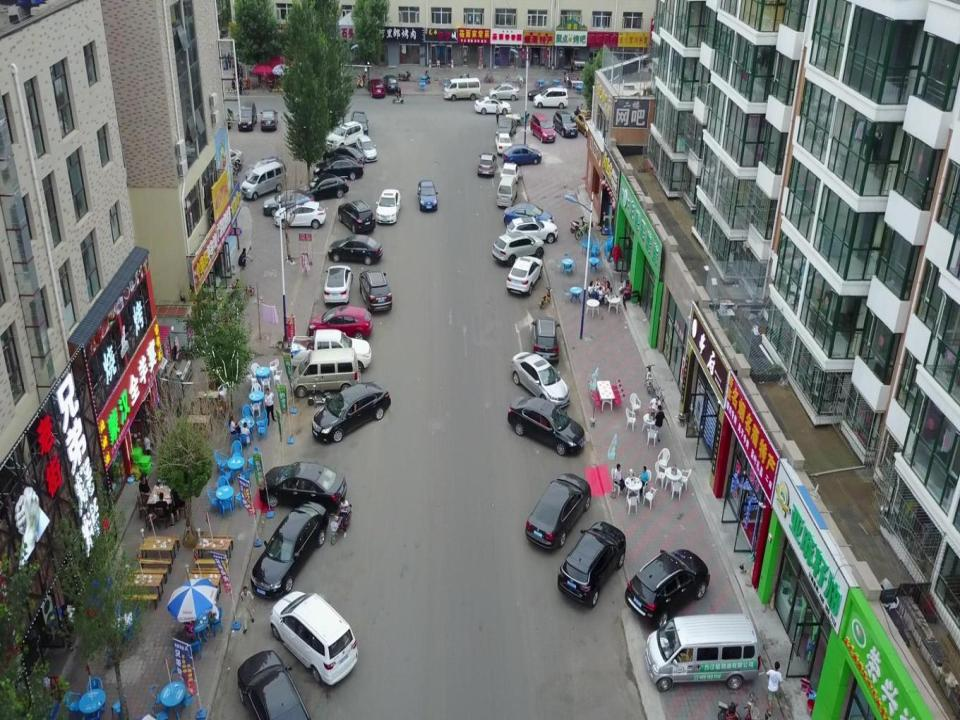car: (269, 591, 357, 683), (252, 500, 328, 596), (624, 548, 710, 628), (557, 522, 626, 604), (237, 649, 314, 720), (527, 472, 590, 548), (311, 382, 391, 441), (509, 396, 584, 456), (260, 462, 347, 507), (513, 352, 569, 409), (310, 306, 373, 339), (494, 231, 544, 262), (328, 234, 382, 262), (508, 214, 558, 243), (274, 200, 325, 228), (507, 254, 543, 293), (296, 172, 348, 199), (531, 316, 560, 364), (359, 270, 392, 311), (263, 189, 314, 214), (313, 154, 363, 179), (338, 200, 376, 232), (502, 204, 557, 226), (201, 143, 244, 169), (244, 155, 286, 180), (327, 121, 363, 150), (323, 144, 366, 168), (326, 265, 352, 303), (376, 188, 400, 223), (530, 112, 556, 143), (553, 110, 579, 138), (474, 95, 510, 115), (504, 146, 541, 165), (418, 179, 438, 212), (528, 82, 560, 102), (356, 133, 378, 162), (573, 110, 594, 138), (488, 83, 520, 101), (350, 110, 369, 138), (477, 150, 496, 176), (496, 116, 516, 139), (500, 161, 519, 185), (367, 76, 385, 98), (384, 72, 400, 95), (260, 108, 277, 129), (231, 84, 250, 97)
truck: (292, 329, 372, 369)
van: (646, 614, 759, 684), (292, 347, 362, 391), (240, 162, 285, 198), (442, 78, 480, 99), (534, 87, 567, 108), (238, 100, 257, 130)
